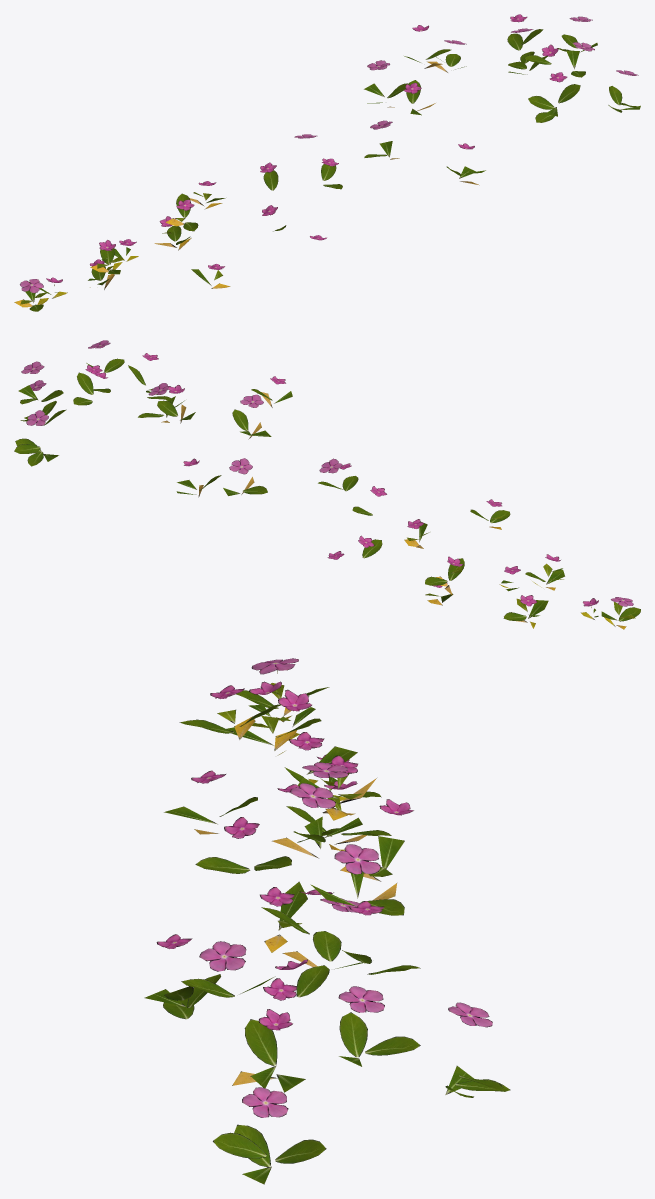
The model's file is periwinkle_plant.glb.
3 renders of one model, top to bottom at view 1: azimuth 30°, elevation 25°; view 2: azimuth 150°, elevation 25°; view 3: azimuth 270°, elevation 25°, orthographic. The views are drawn at different scales.
Parts seen in each view (by area): view 1: periwinkle_plant_01_LOD0, periwinkle_plant_02_LOD0, periwinkle_plant_04_LOD0, periwinkle_plant_05_LOD0, periwinkle_plant_03_LOD0, periwinkle_plant_06_LOD0; view 2: periwinkle_plant_01_LOD0, periwinkle_plant_02_LOD0, periwinkle_plant_04_LOD0, periwinkle_plant_05_LOD0, periwinkle_plant_03_LOD0, periwinkle_plant_06_LOD0; view 3: periwinkle_plant_01_LOD0, periwinkle_plant_02_LOD0, periwinkle_plant_04_LOD0, periwinkle_plant_03_LOD0, periwinkle_plant_05_LOD0, periwinkle_plant_06_LOD0.
Part boxes in pixels (box(x1,y1,x2,y2)): periwinkle_plant_01_LOD0: box(507, 14, 640, 122); periwinkle_plant_02_LOD0: box(364, 25, 485, 185); periwinkle_plant_04_LOD0: box(154, 181, 230, 288); periwinkle_plant_05_LOD0: box(88, 239, 138, 289); periwinkle_plant_03_LOD0: box(260, 134, 342, 240); periwinkle_plant_06_LOD0: box(14, 277, 67, 311); periwinkle_plant_01_LOD0: box(14, 340, 170, 466); periwinkle_plant_02_LOD0: box(138, 376, 292, 497); periwinkle_plant_04_LOD0: box(404, 499, 510, 605); periwinkle_plant_05_LOD0: box(499, 554, 564, 628); periwinkle_plant_03_LOD0: box(318, 458, 386, 559); periwinkle_plant_06_LOD0: box(581, 597, 640, 629); periwinkle_plant_01_LOD0: box(144, 901, 510, 1184); periwinkle_plant_02_LOD0: box(164, 762, 413, 1092); periwinkle_plant_04_LOD0: box(179, 685, 391, 952); periwinkle_plant_03_LOD0: box(195, 783, 339, 1000); periwinkle_plant_05_LOD0: box(226, 681, 381, 815); periwinkle_plant_06_LOD0: box(236, 658, 329, 740).
Size of the model in its own units: 1.23 by 0.3468 by 0.3179.
Materials: 1 (1 with a texture image).
